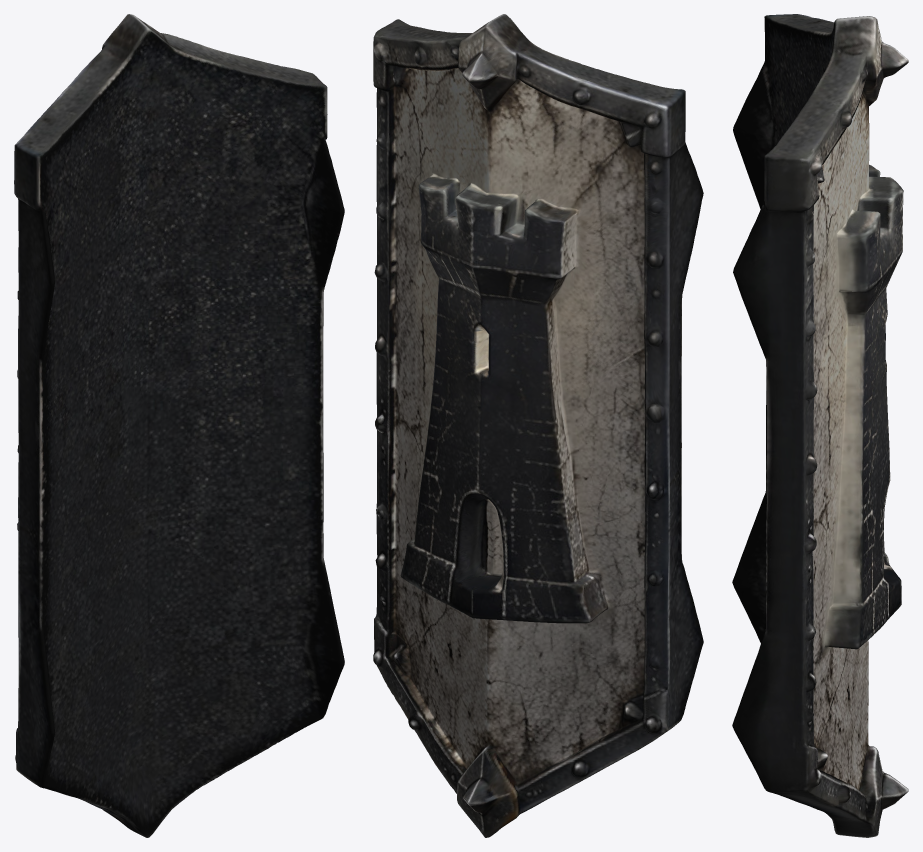
The model's file is tower_keep.glb.
The picture shows the model from 3 angles, left to right: view 1: azimuth 30°, elevation 25°; view 2: azimuth 150°, elevation 25°; view 3: azimuth 270°, elevation 25°; orthographic projection.
Visible parts, largest first — view 1: tower_keep; view 2: tower_keep; view 3: tower_keep.
Part boxes in pixels (box(x1,y1,x2,y2)): tower_keep: box(14, 14, 344, 837); tower_keep: box(373, 14, 703, 837); tower_keep: box(732, 14, 908, 837).
Bounding box in the file's own units: 0.4367 × 1.14 × 0.2231.
1 material, 1 textured.
